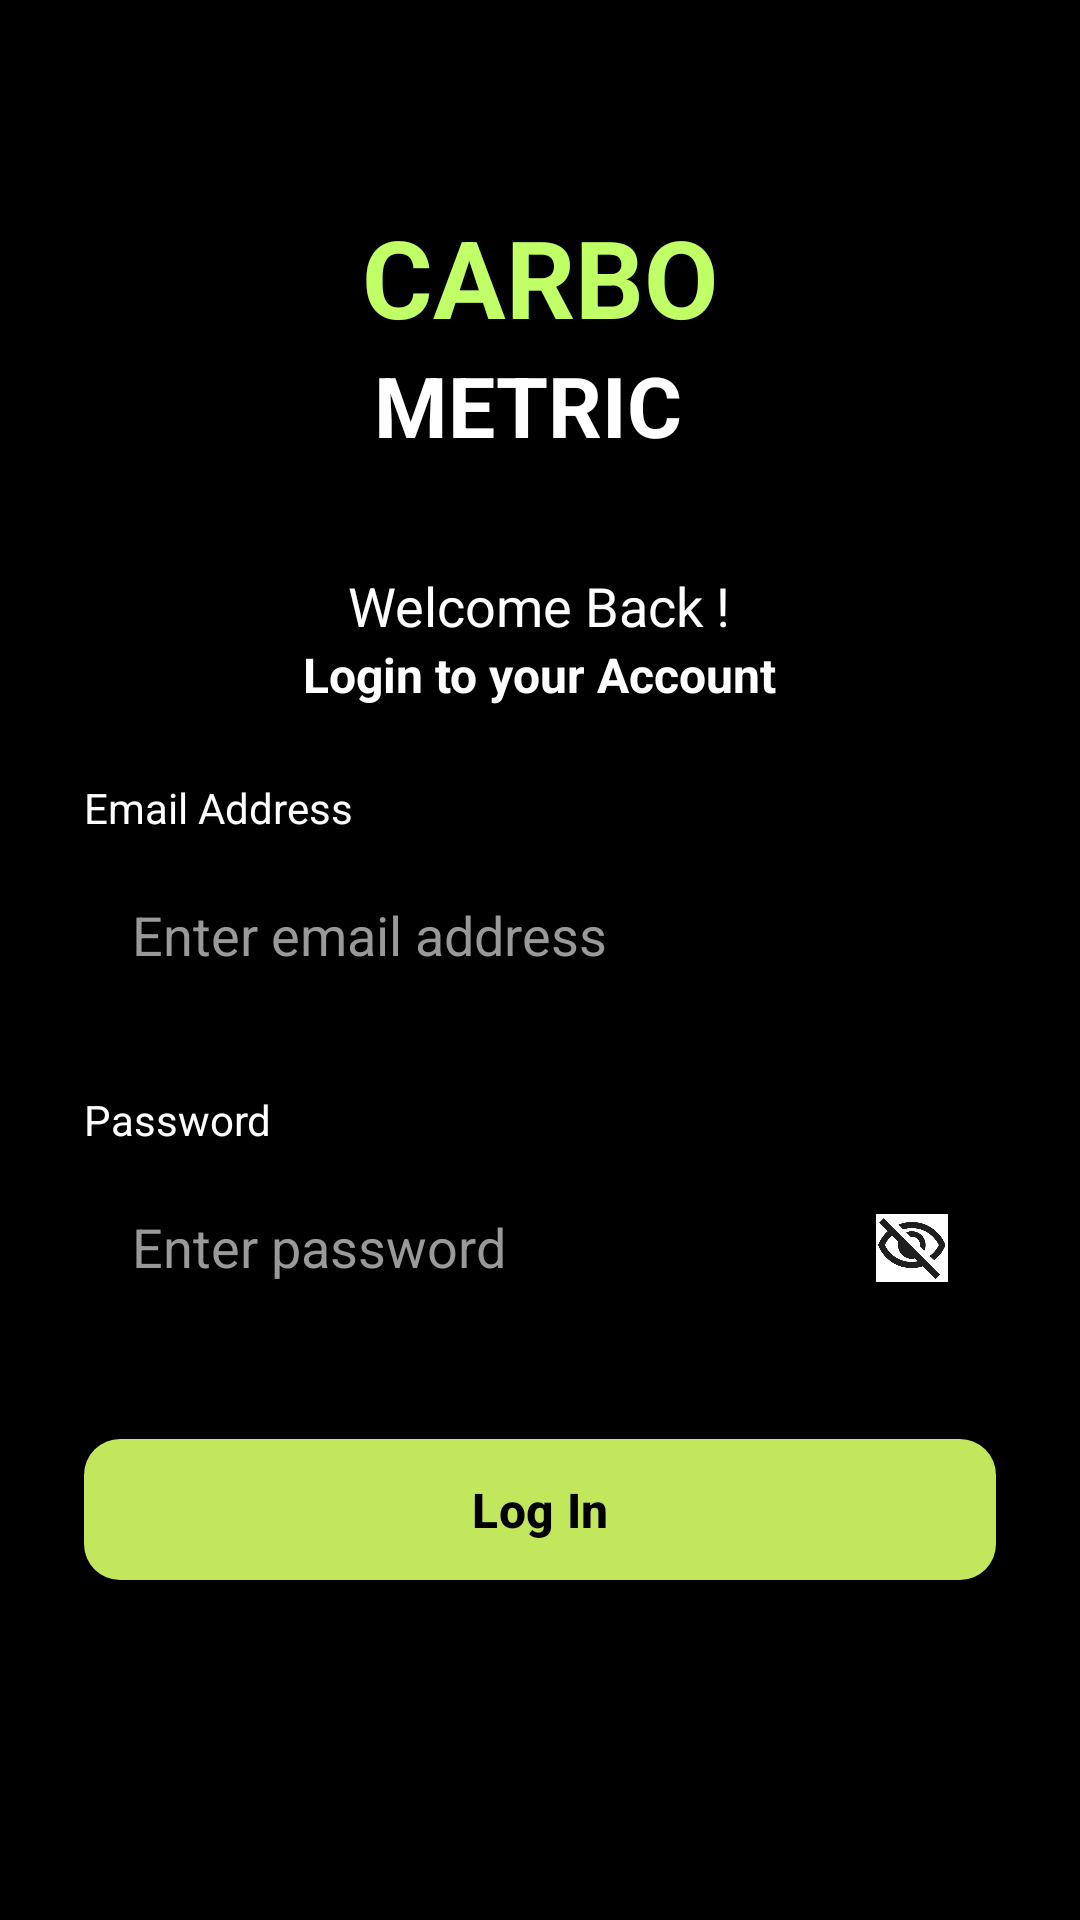

Where to tap for icons on this 1080x1920 app screen, as (x,y):
Toggle Password: (912,1248)
